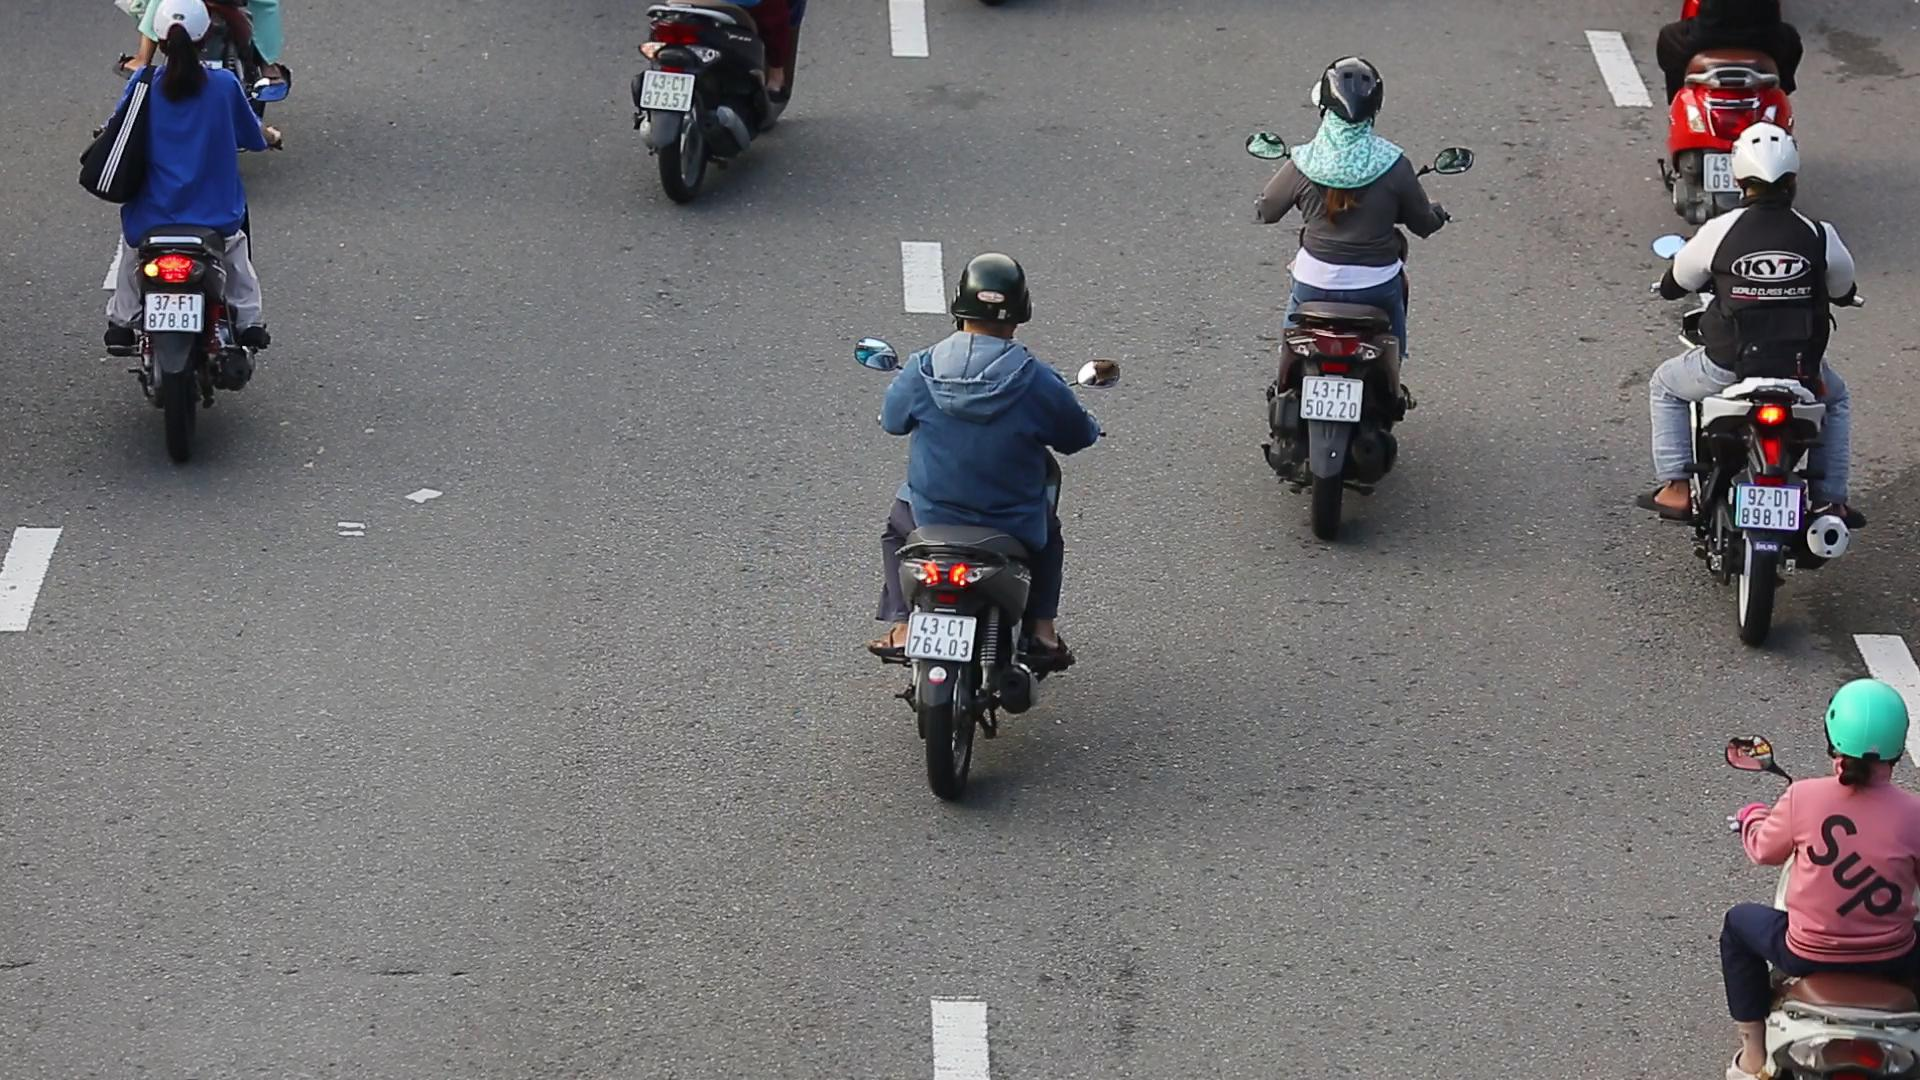motobike: (839, 241, 1137, 823), (1636, 111, 1875, 653), (1240, 54, 1482, 550), (67, 0, 298, 468)
